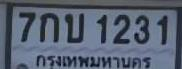1: (156, 14, 167, 44), (96, 14, 106, 43)
2: (112, 13, 129, 43)
3: (133, 14, 149, 43)
7: (18, 10, 35, 40)
A01: (39, 12, 58, 42)
A26: (64, 12, 84, 42)
BKK: (32, 53, 153, 69)
